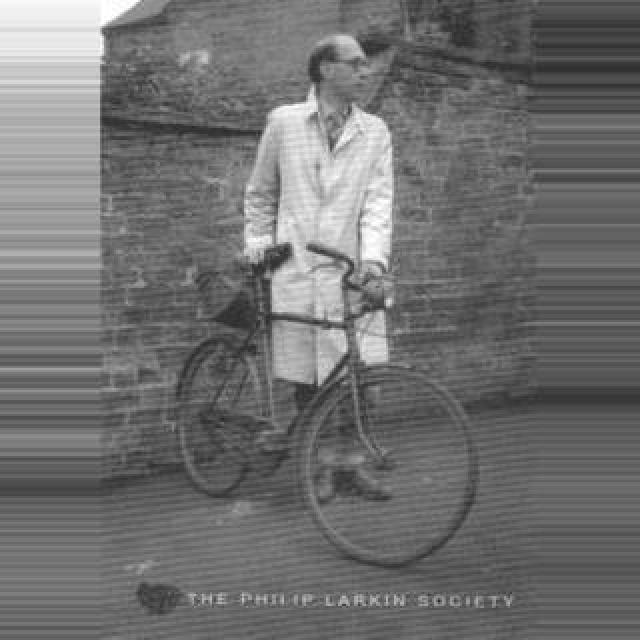MC-Bike: (238, 36, 398, 500)
Person: (164, 246, 480, 564)
